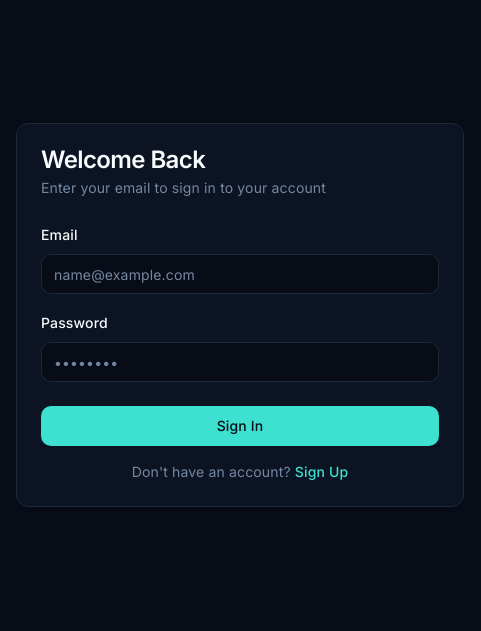
Test case: Auth Component › Rendering › should toggle to sign up form when clicking sign up link
Click the button "Sign Up".
click(322, 472)  # box top-left (295, 462), bottom-right (348, 482)
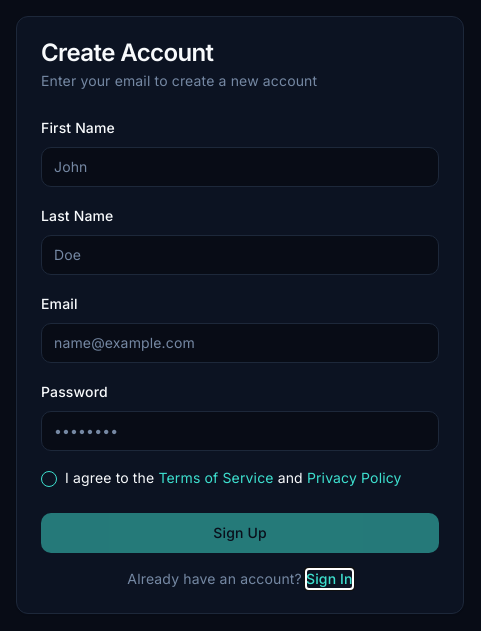
expect the heading "Create Account" is shown: met, box top-left (41, 38), bottom-right (214, 67)
expect the field labelled "First Name" is shown: met, box top-left (41, 147), bottom-right (439, 187)
expect the field labelled "Last Name" is shown: met, box top-left (41, 235), bottom-right (439, 275)
